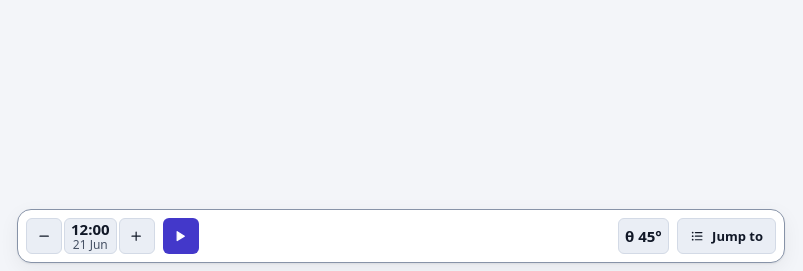
Test case: BottomBar › English texts
Check: the button named "15 minutes later" is shown, box [119, 218, 155, 254]
Check: the button named "Play the day" is shown, box [163, 218, 199, 254]
Click the button "Jump to".
click(726, 236)  # box [677, 218, 776, 254]
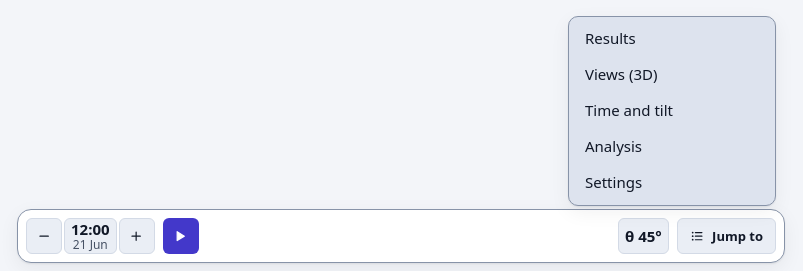
Check: the link "Settings" is shown, box [585, 172, 642, 192]
